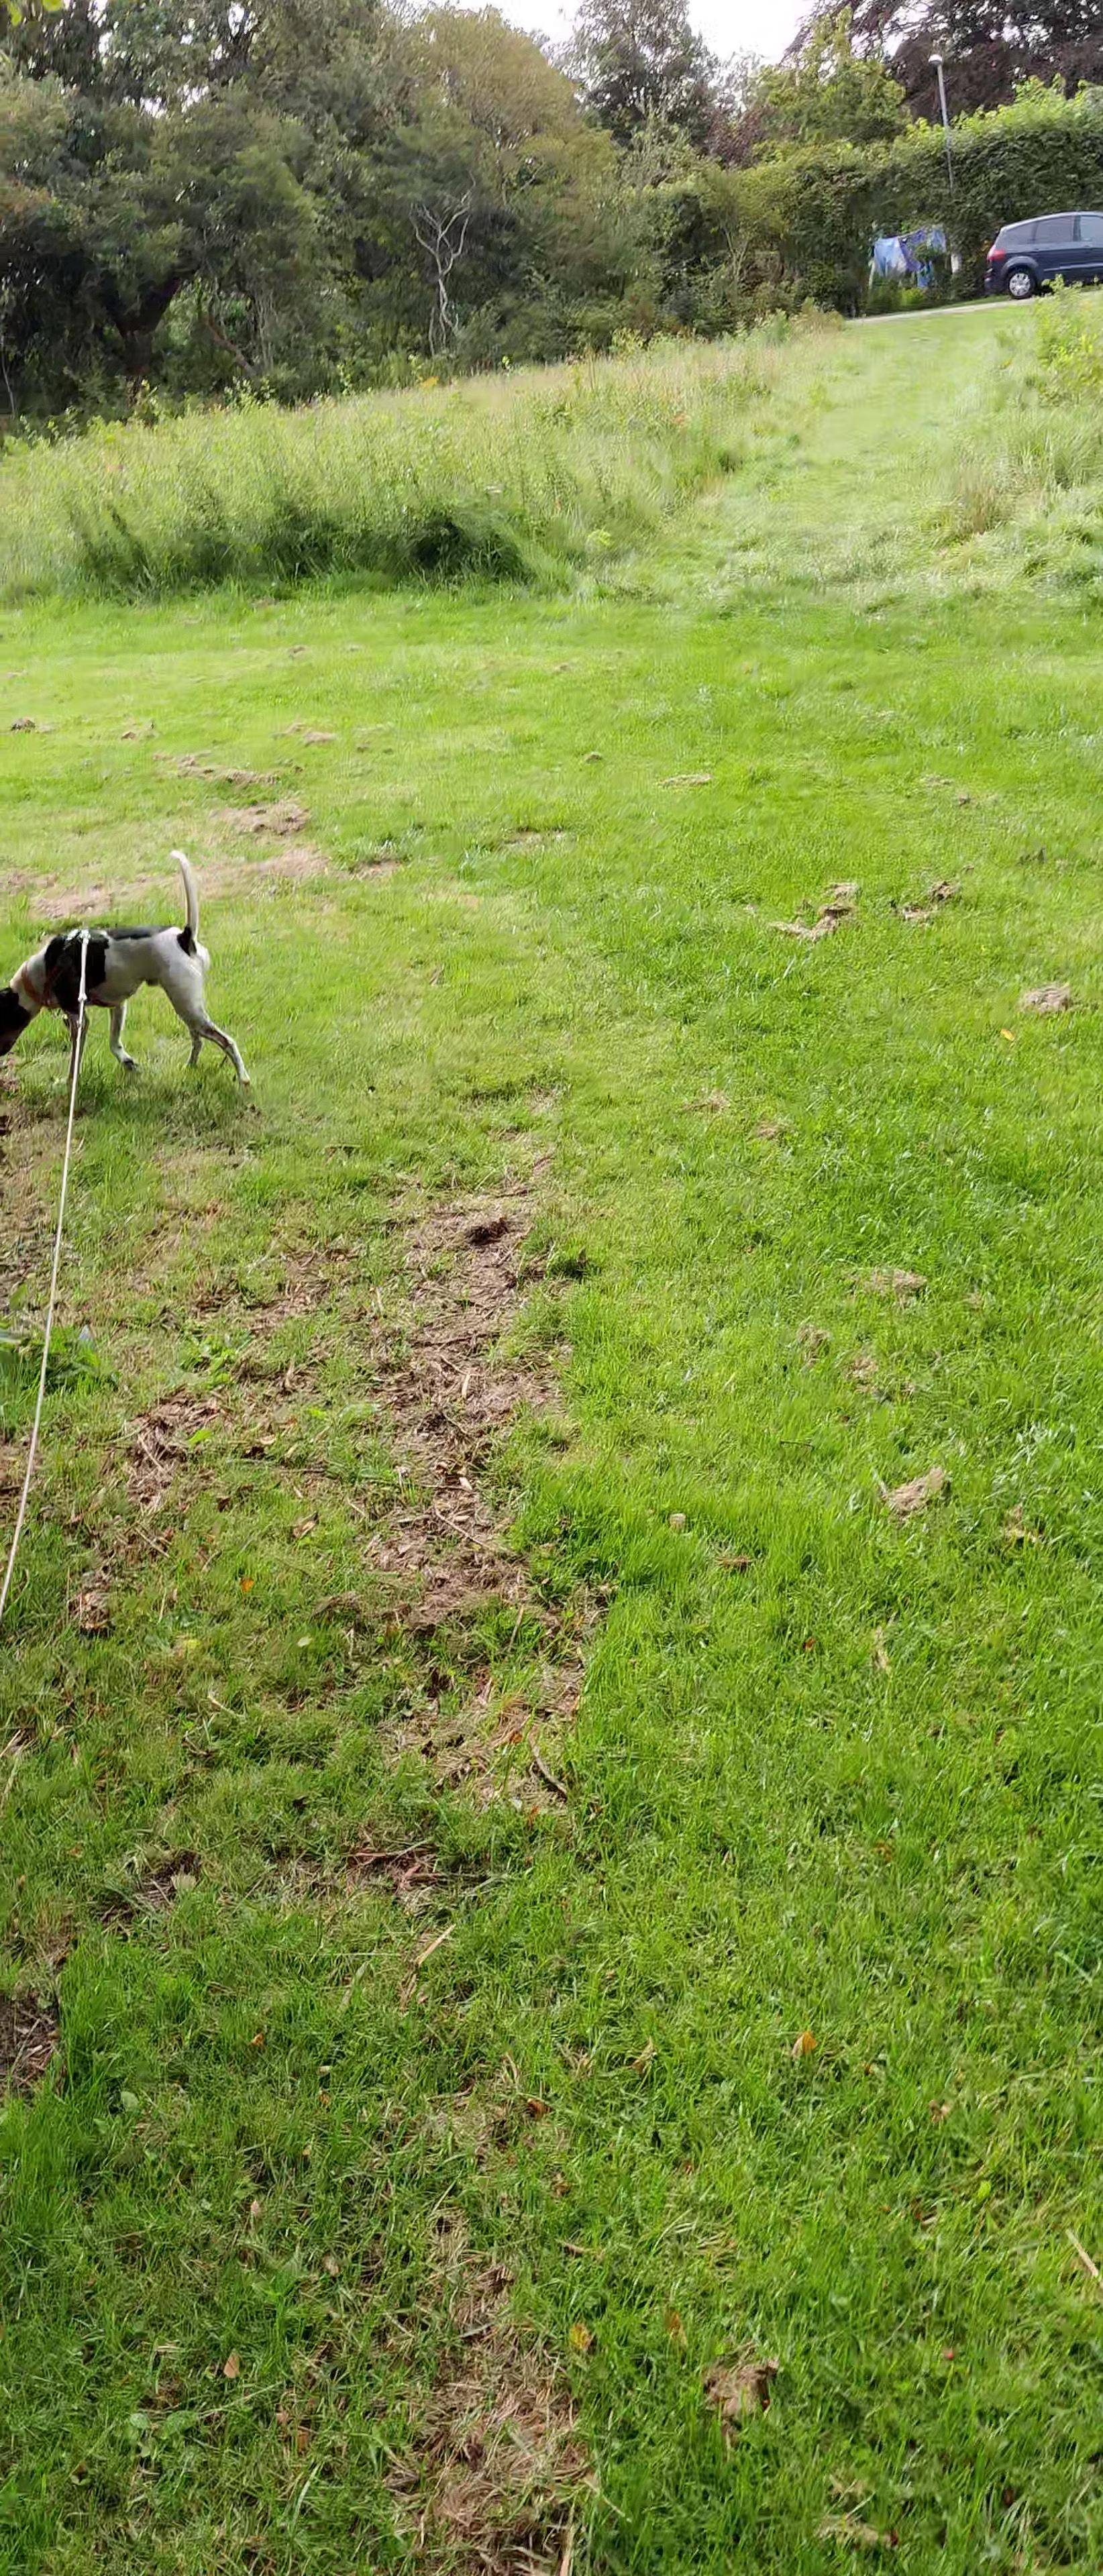Dog: (0, 841, 260, 1099)
